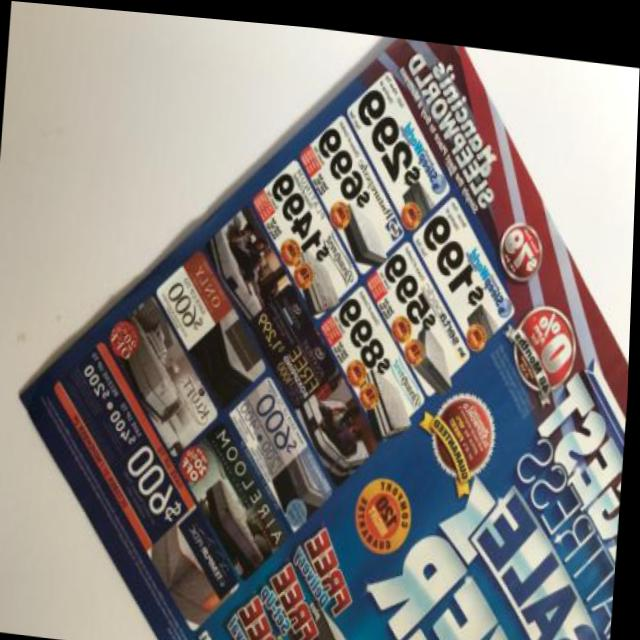paper: (0, 0, 640, 640)
